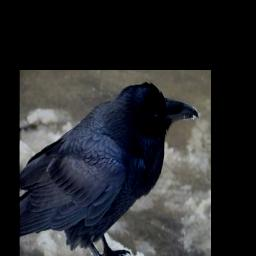Crow: (21, 81, 199, 256)
